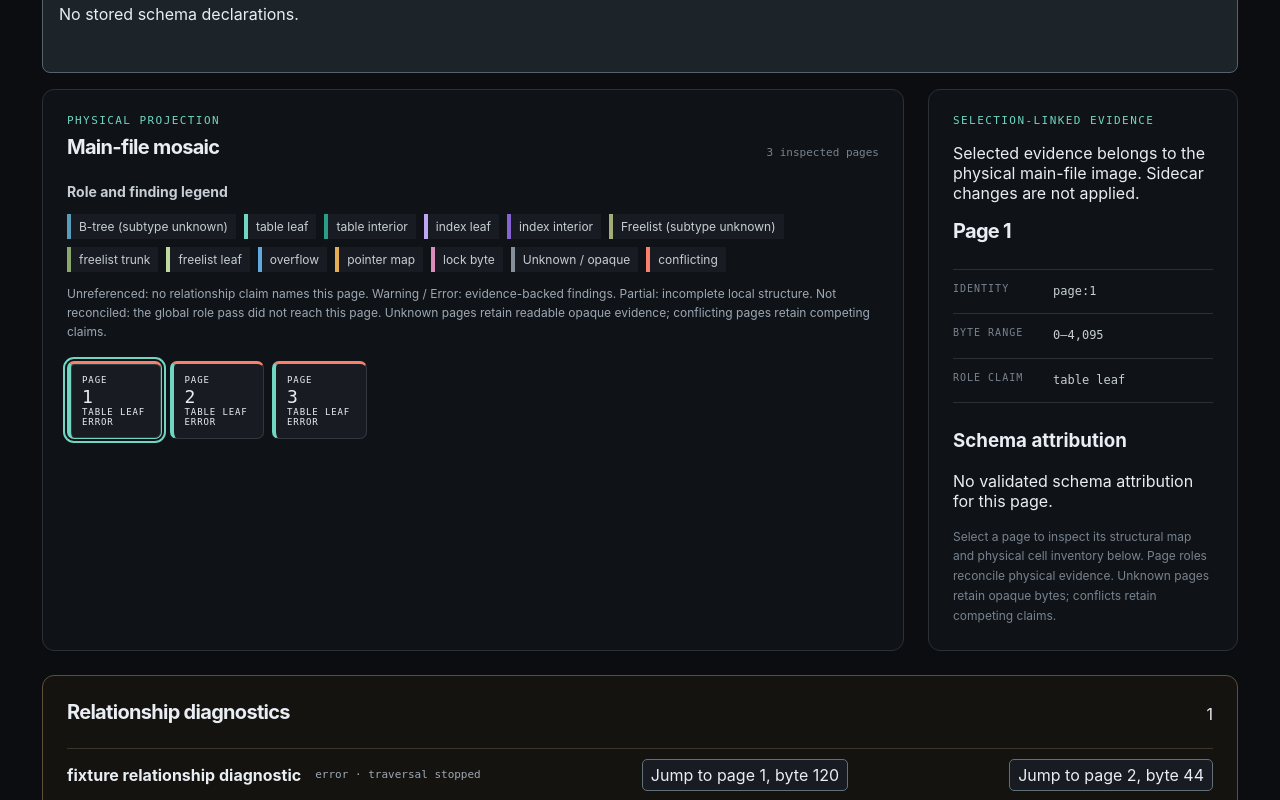
it: page atlas › fetches the snapshot-scoped graph and renders the complete mosaic
This screenshot has width=1280, height=800.
(page scrolled)
What coordinates should you click on to do the following:
click the button "Page 3 table leaf Error"
I would click on:
 (319, 400)
Its box is [272, 361, 366, 439].
(page scrolled)
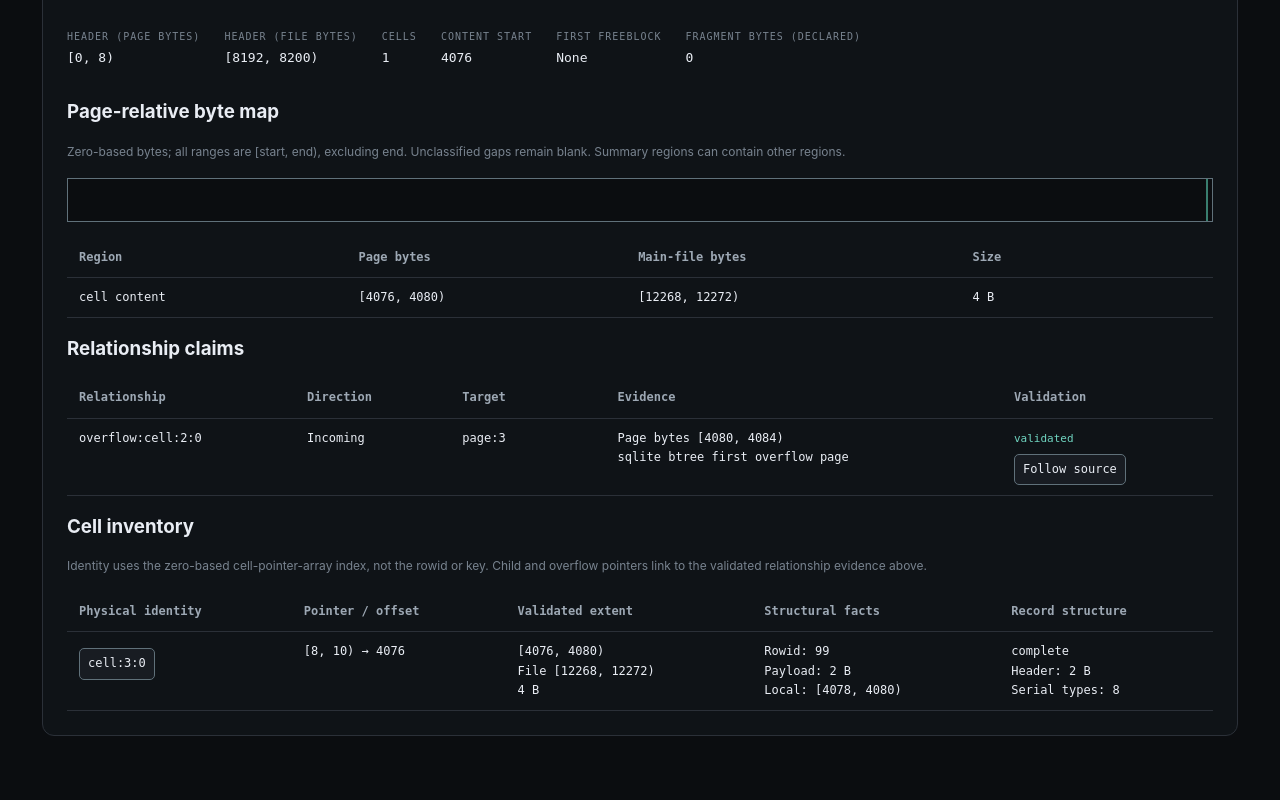
Expected: the element named "Structural byte map" is shown, [67, 100, 1213, 318]
Expected: the button "cell:3:0" is shown, [79, 648, 155, 680]
